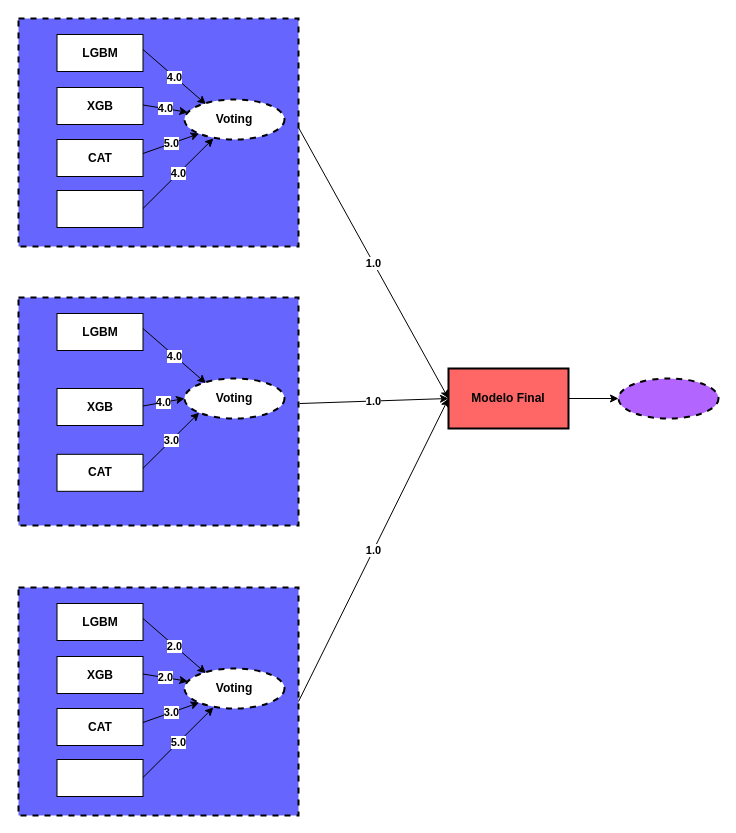
Some shapes in this 736 by 833 pixel diagram are drawn without their labels. The centre of each missing label's shape, as x and y in pixels:
OUTPUT: the point at 668,398
SVR: the point at 99,777
TABNET: the point at 99,209
